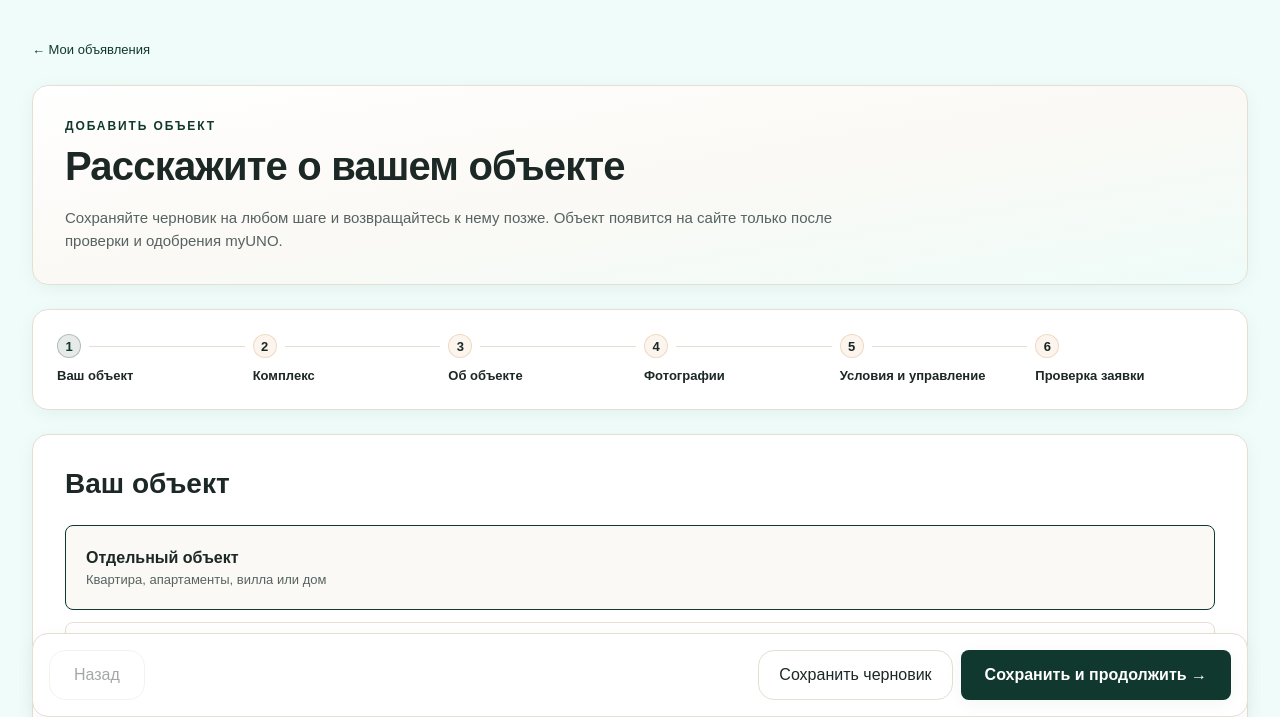
Test: description language belongs to the draft › preserves resumed language en (direct link: true) despite a different UI locale
Step 1. Click the button "Сохранить и продолжить →" → {"x": 1096, "y": 675}, box [961,650,1231,700]
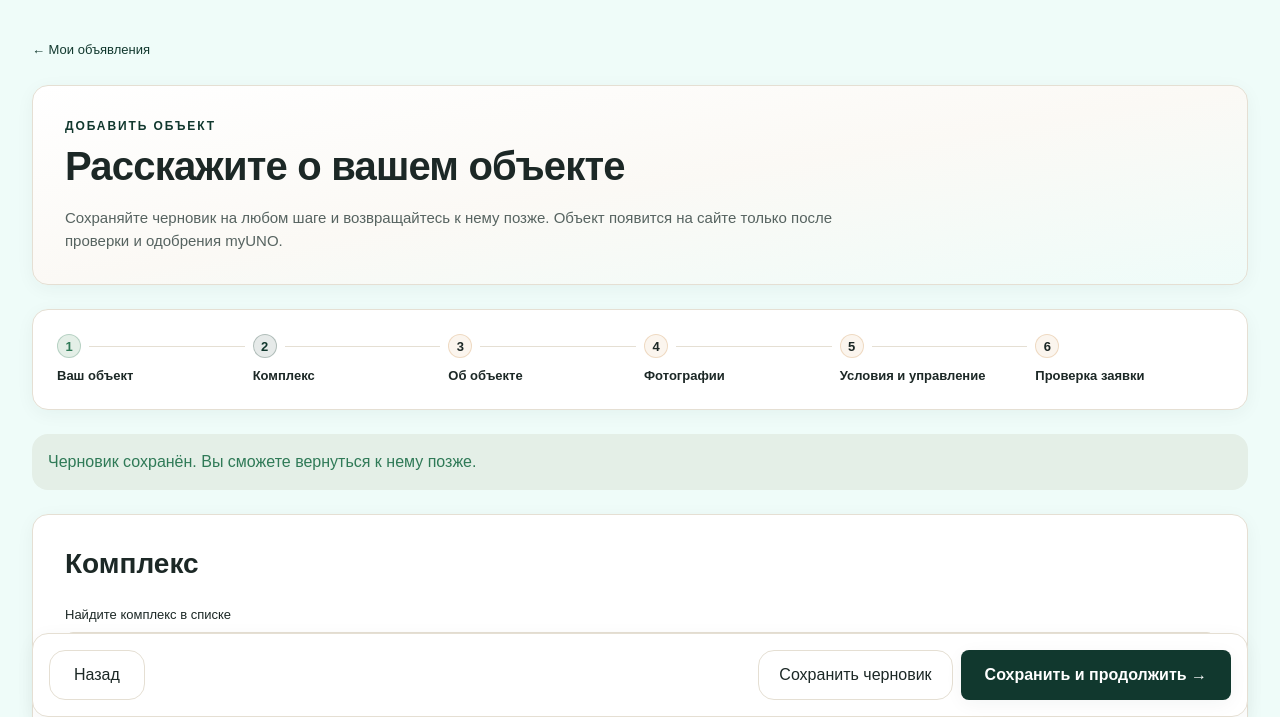
Check: the heading "Комплекс" is shown, box [65,548,199,579]
Step 2. Click the button "Сохранить и продолжить →" → {"x": 1096, "y": 675}, box [961,650,1231,700]
(page scrolled)
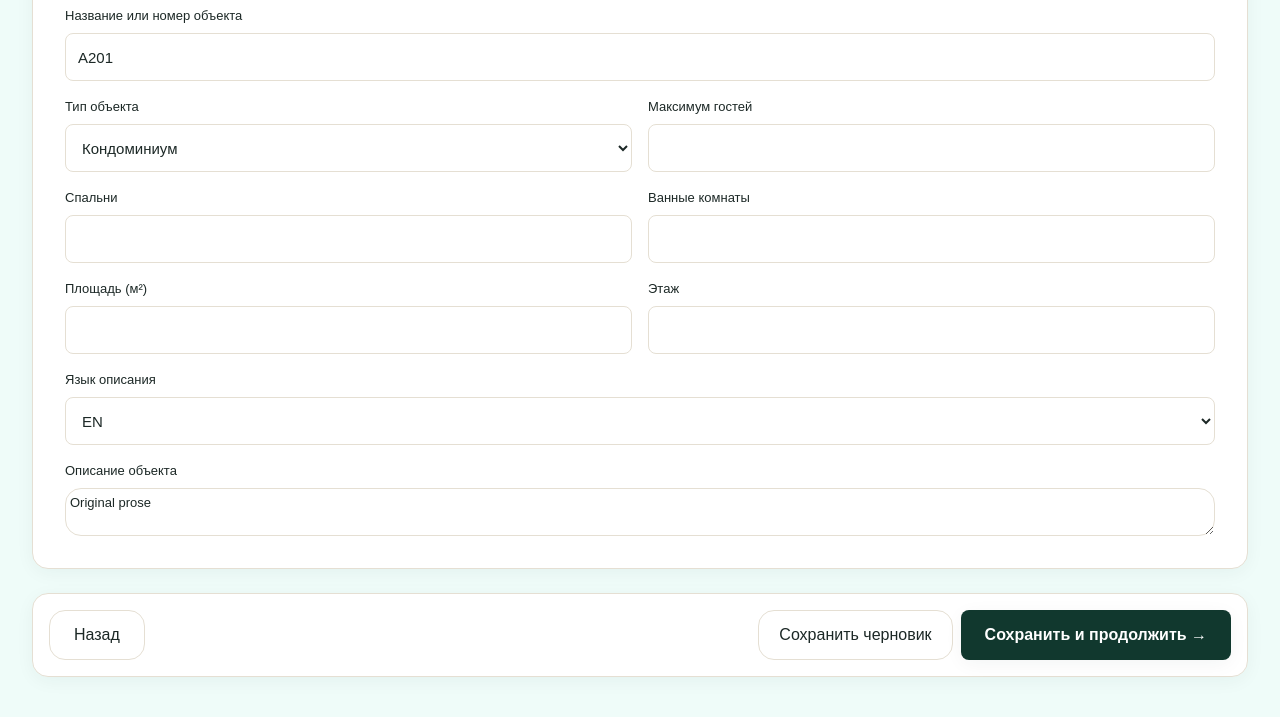
Check: the dropdown labelled "Язык описания" shows "EN"
Check: the text box labelled "Описание объекта" holds "Original prose", box [65,488,1215,536]
Step 3. Select "TH" in the dropdown labelled "Язык описания" → {"x": 640, "y": 421}, box [65,397,1215,445]
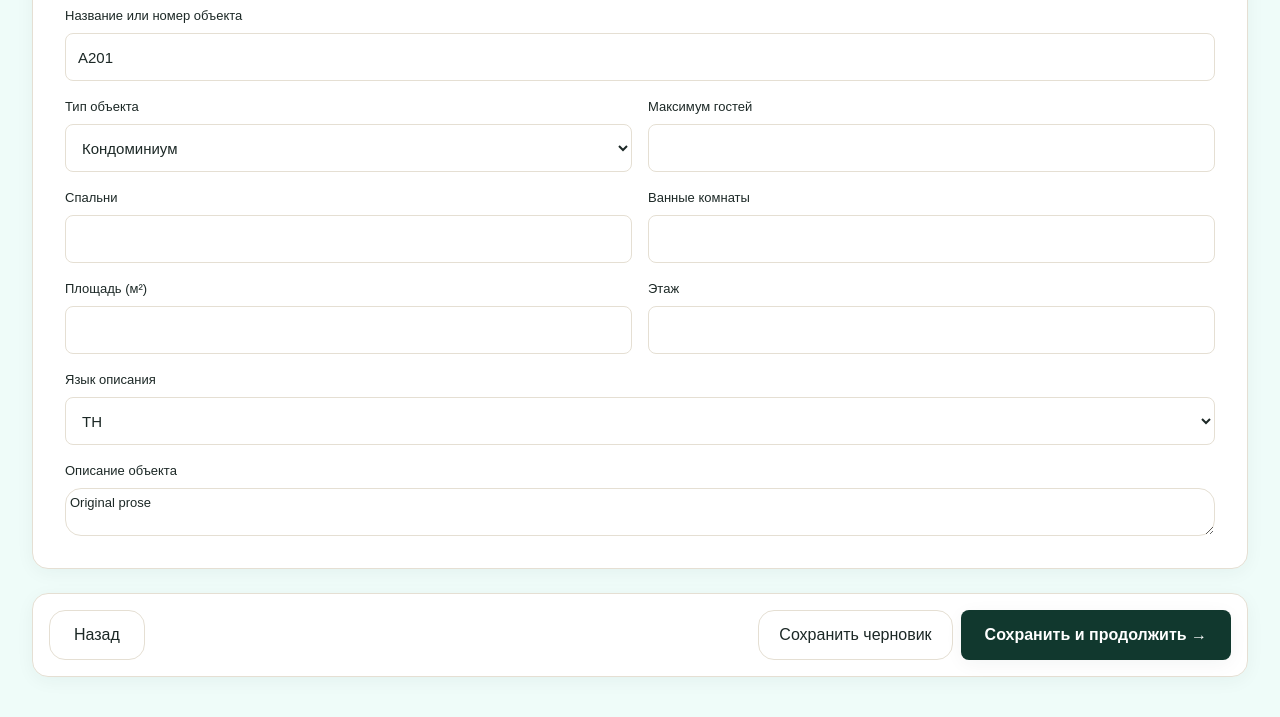
Step 4. Click the button "Сохранить и продолжить →" → {"x": 1096, "y": 635}, box [961,610,1231,660]
(page scrolled)
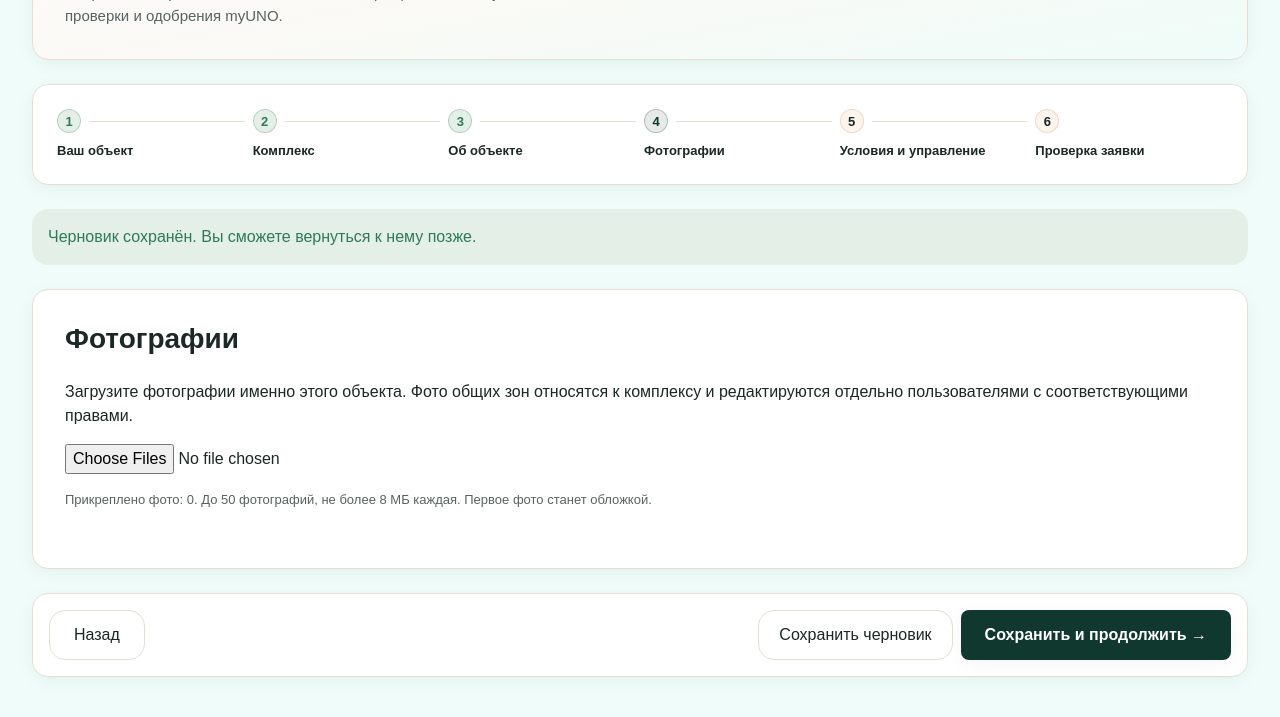
Check: the heading "Фотографии" is shown, box [65,323,239,354]
